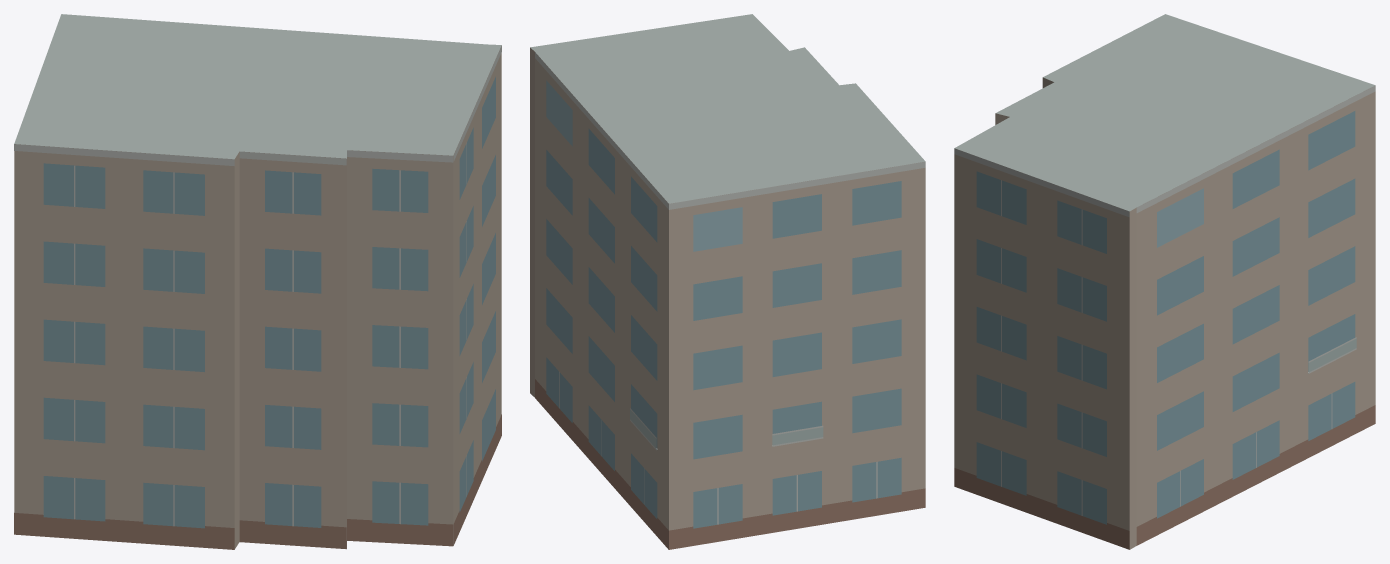
File: survey-upis-32893957.glb
The picture shows the model from 3 angles, left to right: view 1: azimuth 30°, elevation 25°; view 2: azimuth 150°, elevation 25°; view 3: azimuth 270°, elevation 25°; orthographic projection. The views are drawn at different scales.
Parts seen in each view (by area): view 1: survey-upis-32893957.tmp; view 2: survey-upis-32893957.tmp; view 3: survey-upis-32893957.tmp.
Boxes of the visible parts, x1,y1,x2,y2 form: survey-upis-32893957.tmp: [14, 14, 501, 549]; survey-upis-32893957.tmp: [530, 14, 925, 549]; survey-upis-32893957.tmp: [954, 14, 1375, 549].
Size of the model in its own units: 17.28 by 13.8 by 15.58.
